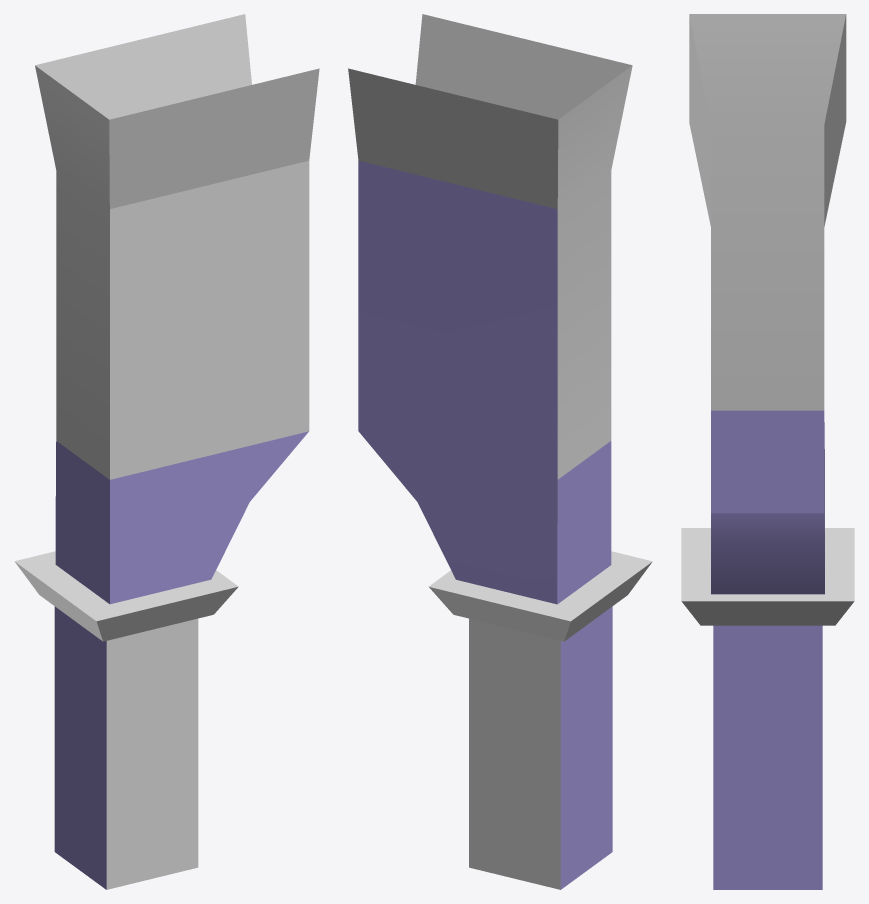
File: Arch v2 End collider.fbx
The picture shows the model from 3 angles, left to right: view 1: azimuth 30°, elevation 25°; view 2: azimuth 150°, elevation 25°; view 3: azimuth 270°, elevation 25°; orthographic projection. The views are drawn at different scales.
Parts seen in each view (by area): view 1: Arch End v2 collider; view 2: Arch End v2 collider; view 3: Arch End v2 collider.
Part boxes in pixels (x1,y1,x2,y2): Arch End v2 collider: [14, 14, 319, 889]; Arch End v2 collider: [348, 14, 652, 889]; Arch End v2 collider: [681, 14, 854, 889].
Bounding box in the file's own units: 257 × 844 × 161.
